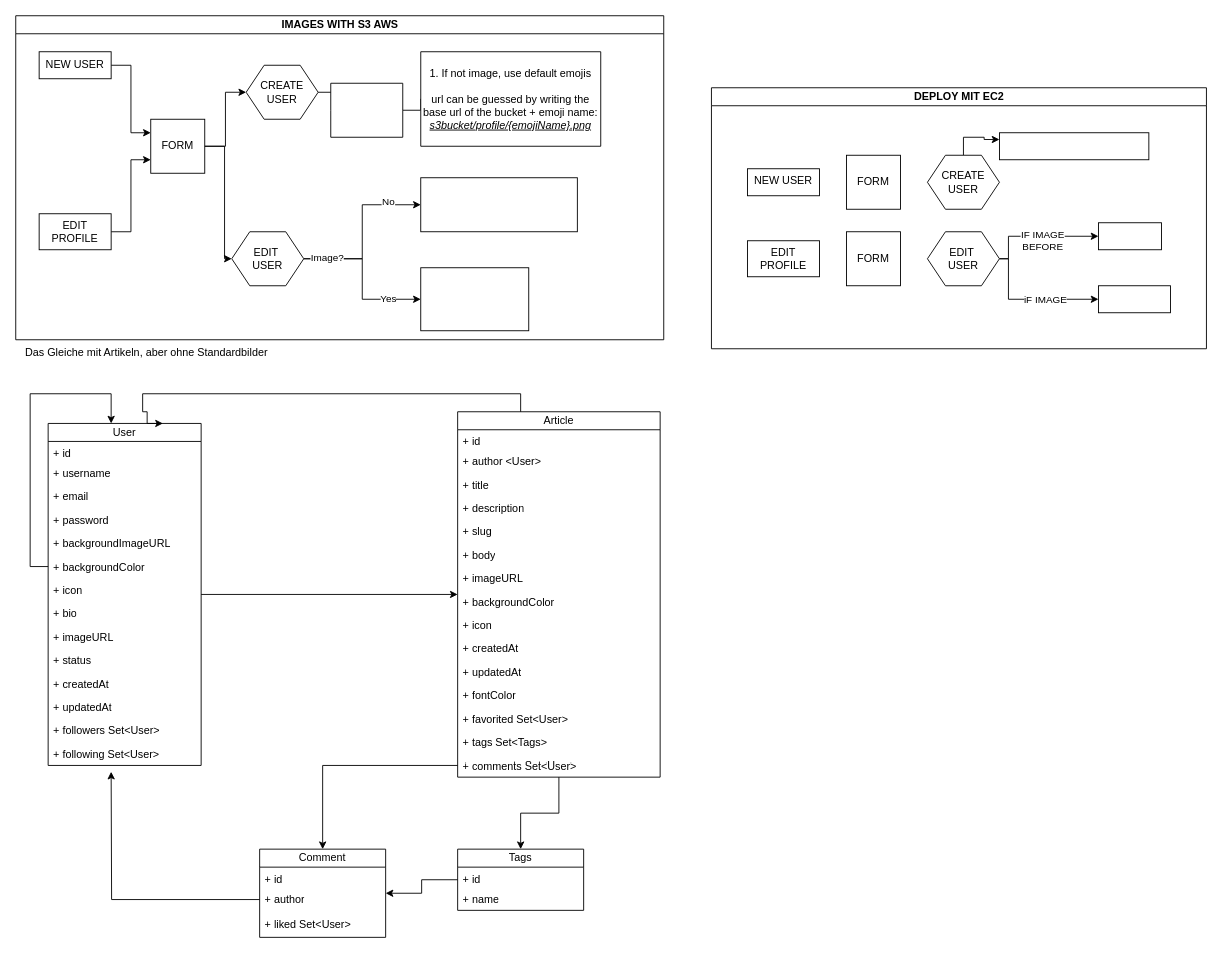
Some shapes in this 1222 by 956 pixel diagram are drawn without their labels. Each missing label, with the centre of its shape:
1. S3 BUCKET DELETE PREV IMAGE 2. REPEAT SAVE PROCESS: point 498,204
1. save in S3 BUCKET 2. save the URL: point 474,299
default values (no image): point 1074,146
Default Values: No Image: point 366,109
S3 BUCKET: point 1134,299
S3 BUCKET DELETE: point 1129,236
